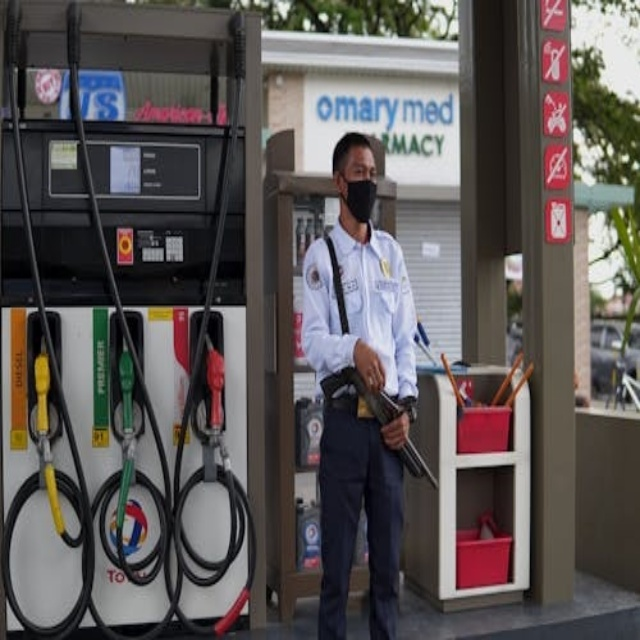Mascara: (342, 178, 377, 222)
Sin_gafas: (343, 166, 379, 181)
Sin_guantes: (348, 329, 390, 396), (378, 405, 411, 450)
